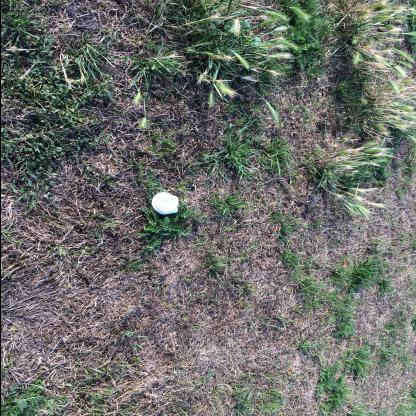plastik: (152, 193, 179, 216)
